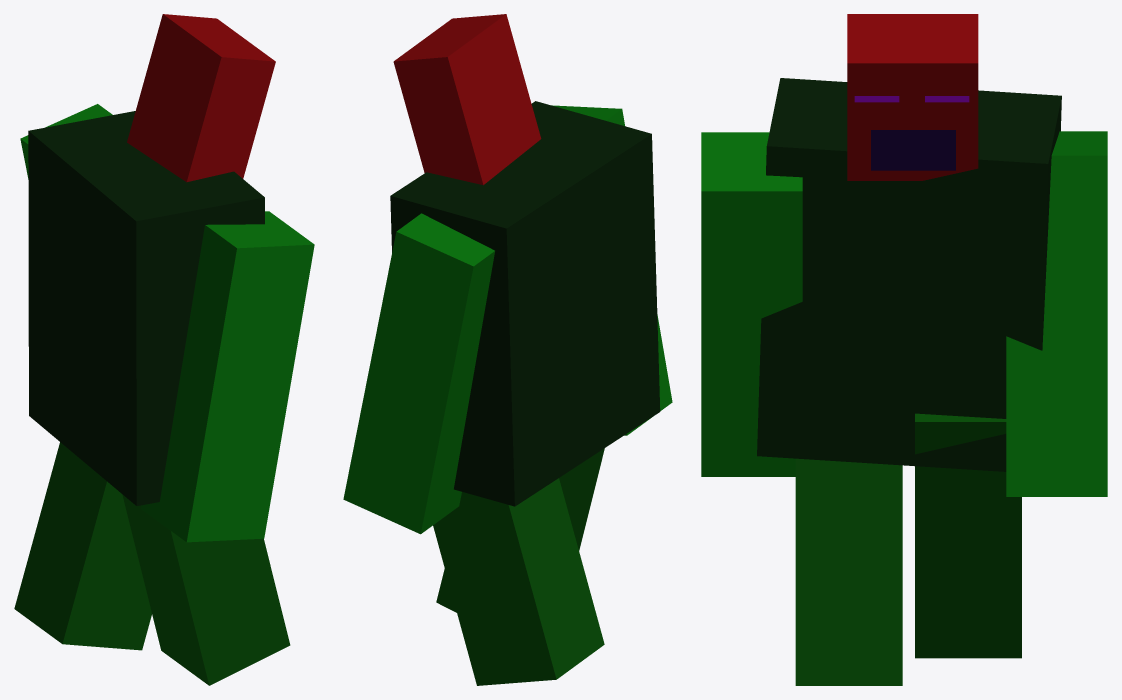
File: walk_000026.obj
3 renders of one model, left to right at view 1: azimuth 30°, elevation 25°; view 2: azimuth 150°, elevation 25°; view 3: azimuth 270°, elevation 25°, orthographic. The views are drawn at different scales.
Parts seen in each view (by area): view 1: Cube, leg.002_Cube.006, leg_Cube.001, leg.001_Cube.007, Cube.001_Cube.003, leg.003_Cube.002; view 2: Cube, leg.003_Cube.002, leg_Cube.001, Cube.001_Cube.003, leg.001_Cube.007, leg.002_Cube.006; view 3: Cube, leg.003_Cube.002, leg.002_Cube.006, leg.001_Cube.007, leg_Cube.001, Cube.001_Cube.003, Plane.002.
Part boxes in pixels (x1=…): Cube: x1=28, y1=111, x2=264, y2=505; leg.002_Cube.006: x1=141, y1=211, x2=314, y2=542; leg_Cube.001: x1=14, y1=442, x2=151, y2=650; leg.001_Cube.007: x1=122, y1=494, x2=290, y2=685; Cube.001_Cube.003: x1=127, y1=14, x2=275, y2=182; leg.003_Cube.002: x1=20, y1=104, x2=112, y2=179; Cube: x1=390, y1=101, x2=660, y2=506; leg.003_Cube.002: x1=343, y1=213, x2=494, y2=534; leg_Cube.001: x1=433, y1=478, x2=604, y2=685; Cube.001_Cube.003: x1=393, y1=14, x2=541, y2=185; leg.001_Cube.007: x1=436, y1=448, x2=604, y2=612; leg.002_Cube.006: x1=552, y1=105, x2=672, y2=435; Cube: x1=757, y1=78, x2=1061, y2=471; leg.003_Cube.002: x1=1006, y1=131, x2=1107, y2=496; leg.002_Cube.006: x1=701, y1=132, x2=802, y2=476; leg.001_Cube.007: x1=795, y1=458, x2=902, y2=685; leg_Cube.001: x1=915, y1=413, x2=1021, y2=658; Cube.001_Cube.003: x1=847, y1=14, x2=978, y2=180; Plane.002: x1=871, y1=130, x2=955, y2=170.
Bounding box in the file's own units: 2.01 × 6.32 × 3.47.
